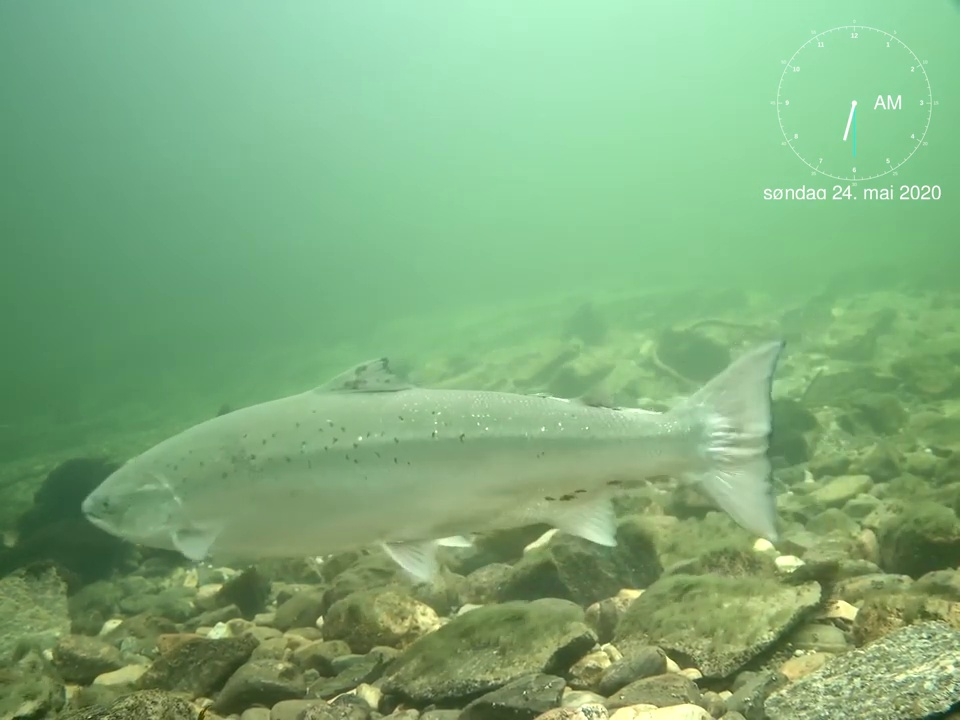salmon: (78, 337, 789, 587)
